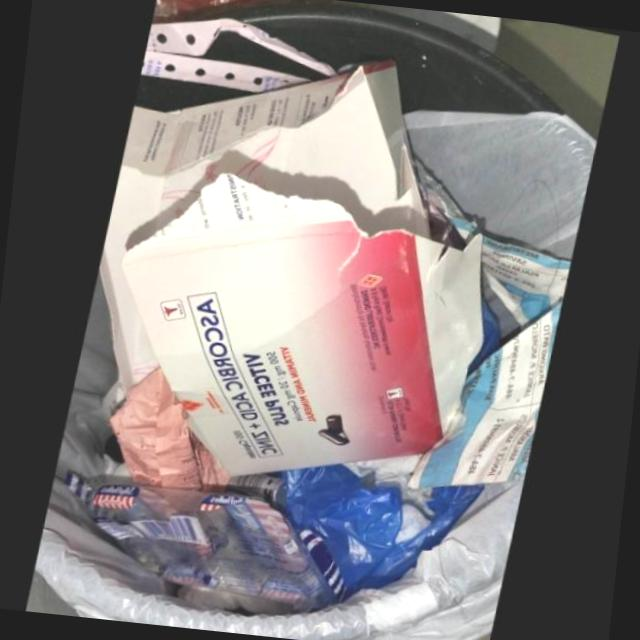bao_bi_thuc_pham: (68, 472, 339, 612)
carton: (100, 58, 486, 476)
giay: (412, 300, 565, 487), (483, 233, 573, 322), (440, 202, 475, 237)
tui_ni_long: (275, 462, 488, 601)
